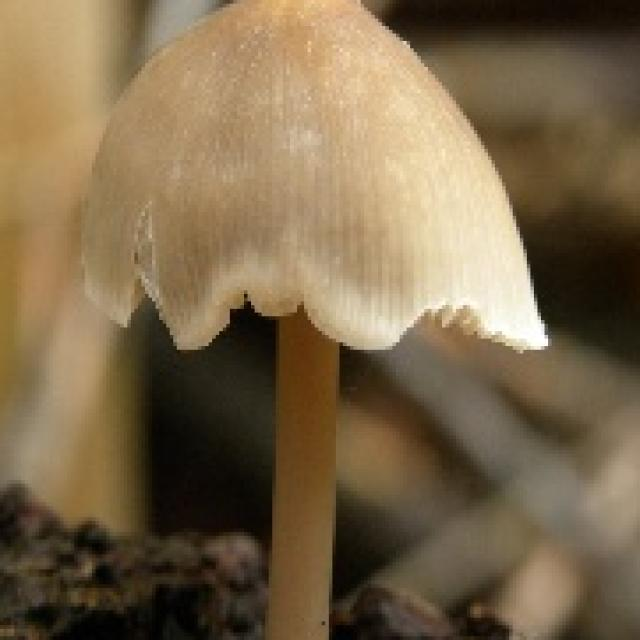mushroom: (74, 0, 541, 640)
